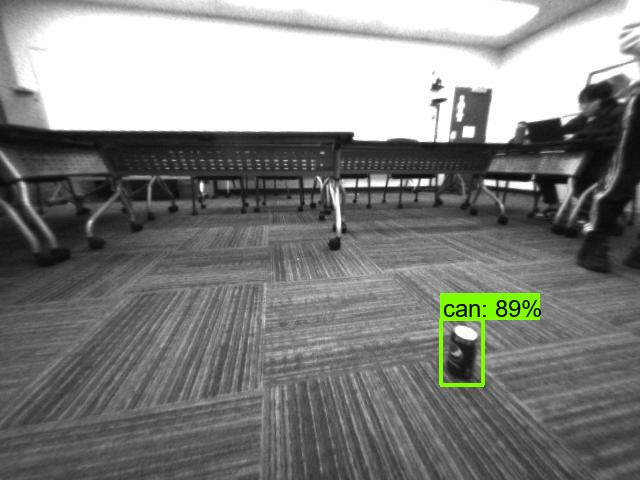can: (439, 318, 482, 385)
